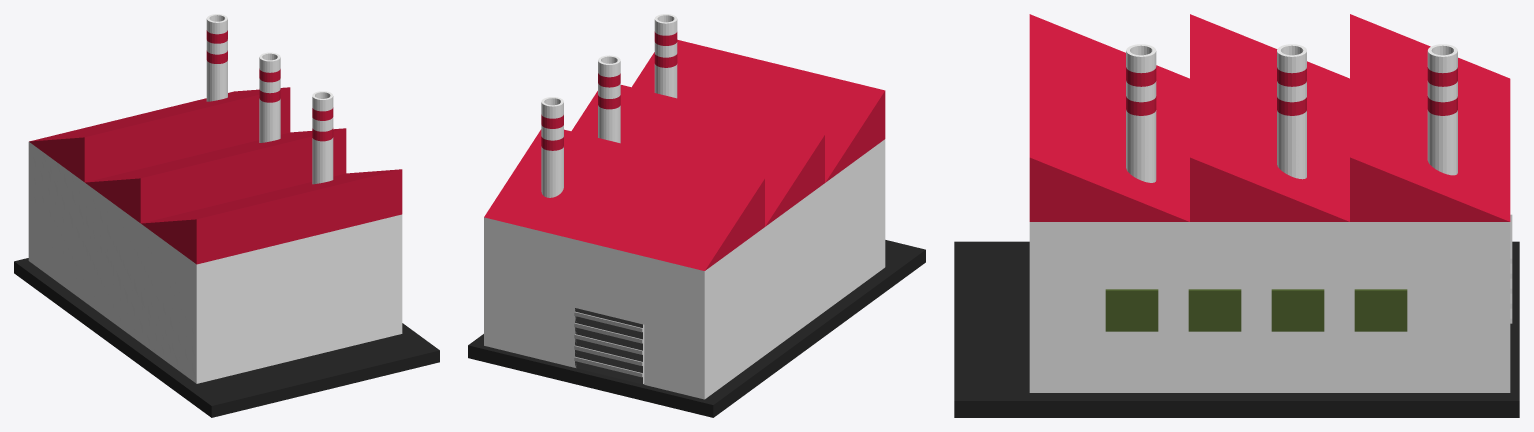
Rendered from factory.FBX.
The picture shows the model from 3 angles, left to right: view 1: azimuth 30°, elevation 25°; view 2: azimuth 150°, elevation 25°; view 3: azimuth 270°, elevation 25°; orthographic projection. The views are drawn at different scales.
Visible parts, largest first — view 1: Group2, Group1, Group5, Group6, Group4, Group9, Group8, Group7; view 2: Group2, Group6, Group5, Group4, Group1, Group14, Group7, Group8, Group9; view 3: Group2, Group1, Group5, Group6, Group4, Group9, Group7, Group8, Group10, Group11, Group12, Group13.
Boxes of the visible parts, box(x1,y1,x2,y2) form: Group2: box(28, 142, 402, 383); Group1: box(14, 258, 439, 417); Group5: box(141, 169, 402, 264); Group6: box(29, 87, 290, 182); Group4: box(85, 128, 346, 223); Group9: box(312, 91, 333, 184); Group8: box(259, 52, 280, 142); Group7: box(206, 14, 227, 101); Group2: box(484, 139, 885, 399); Group6: box(484, 129, 764, 270); Group5: box(632, 39, 885, 182); Group4: box(571, 85, 824, 226); Group1: box(468, 240, 925, 417); Group14: box(574, 308, 644, 384); Group7: box(541, 97, 563, 197); Group8: box(598, 55, 620, 143); Group9: box(654, 14, 677, 98); Group2: box(1029, 222, 1510, 392); Group1: box(954, 241, 1519, 417); Group5: box(1029, 14, 1189, 221); Group6: box(1350, 14, 1510, 221); Group4: box(1190, 14, 1349, 221); Group9: box(1126, 44, 1156, 182); Group7: box(1427, 44, 1457, 175); Group8: box(1277, 44, 1306, 179); Group10: box(1105, 289, 1158, 331); Group11: box(1188, 289, 1241, 331); Group12: box(1271, 289, 1324, 331); Group13: box(1354, 289, 1407, 331).
Bounding box in the file's own units: 7.87 × 7.63 × 11.81.
